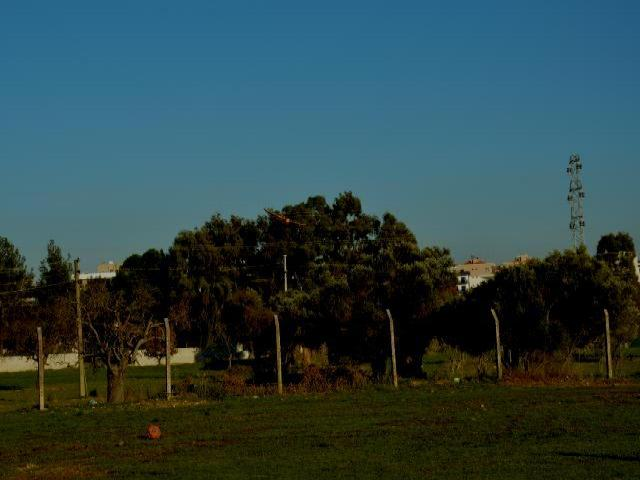iha: (263, 208, 306, 226)
